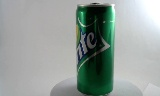sprite: (71, 2, 108, 95)
